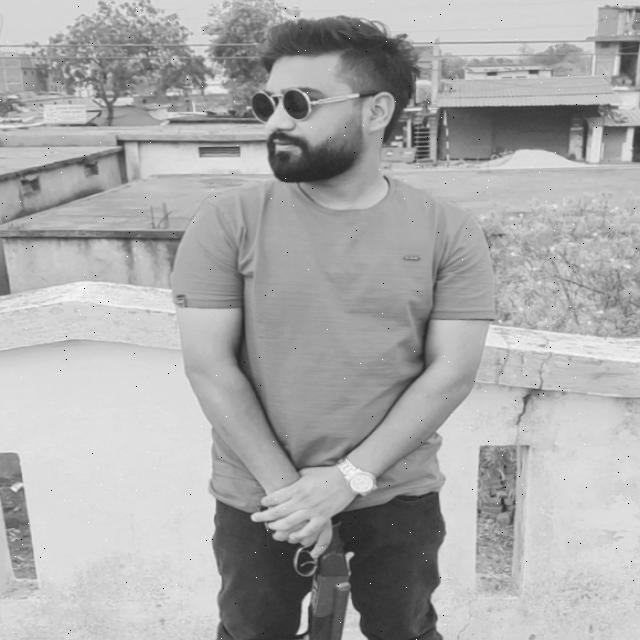gun: (226, 482, 398, 640)
